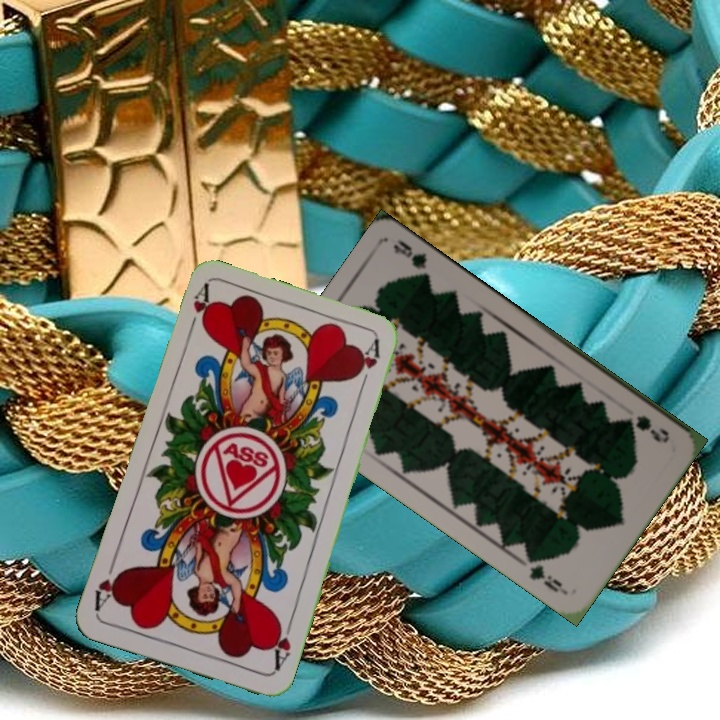G9: (620, 411, 672, 446)
HA: (267, 615, 296, 673), (183, 282, 212, 339)
